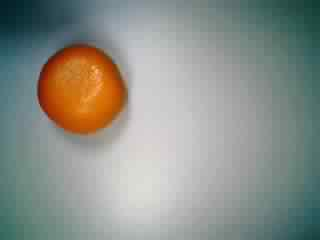orange: (30, 41, 132, 137)
